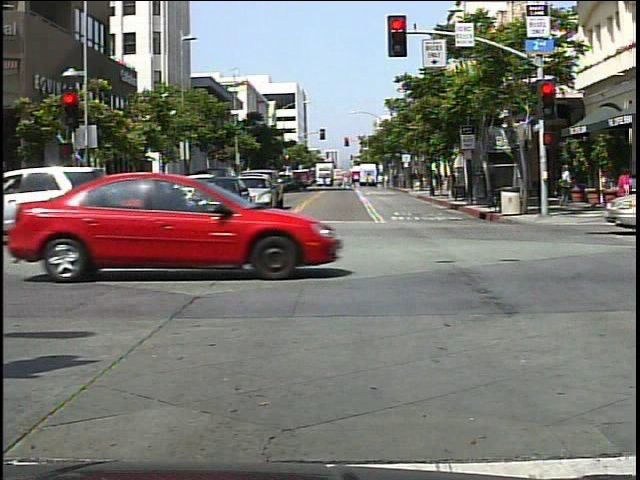person: (61, 171, 92, 235), (555, 162, 578, 213), (612, 166, 639, 202)
